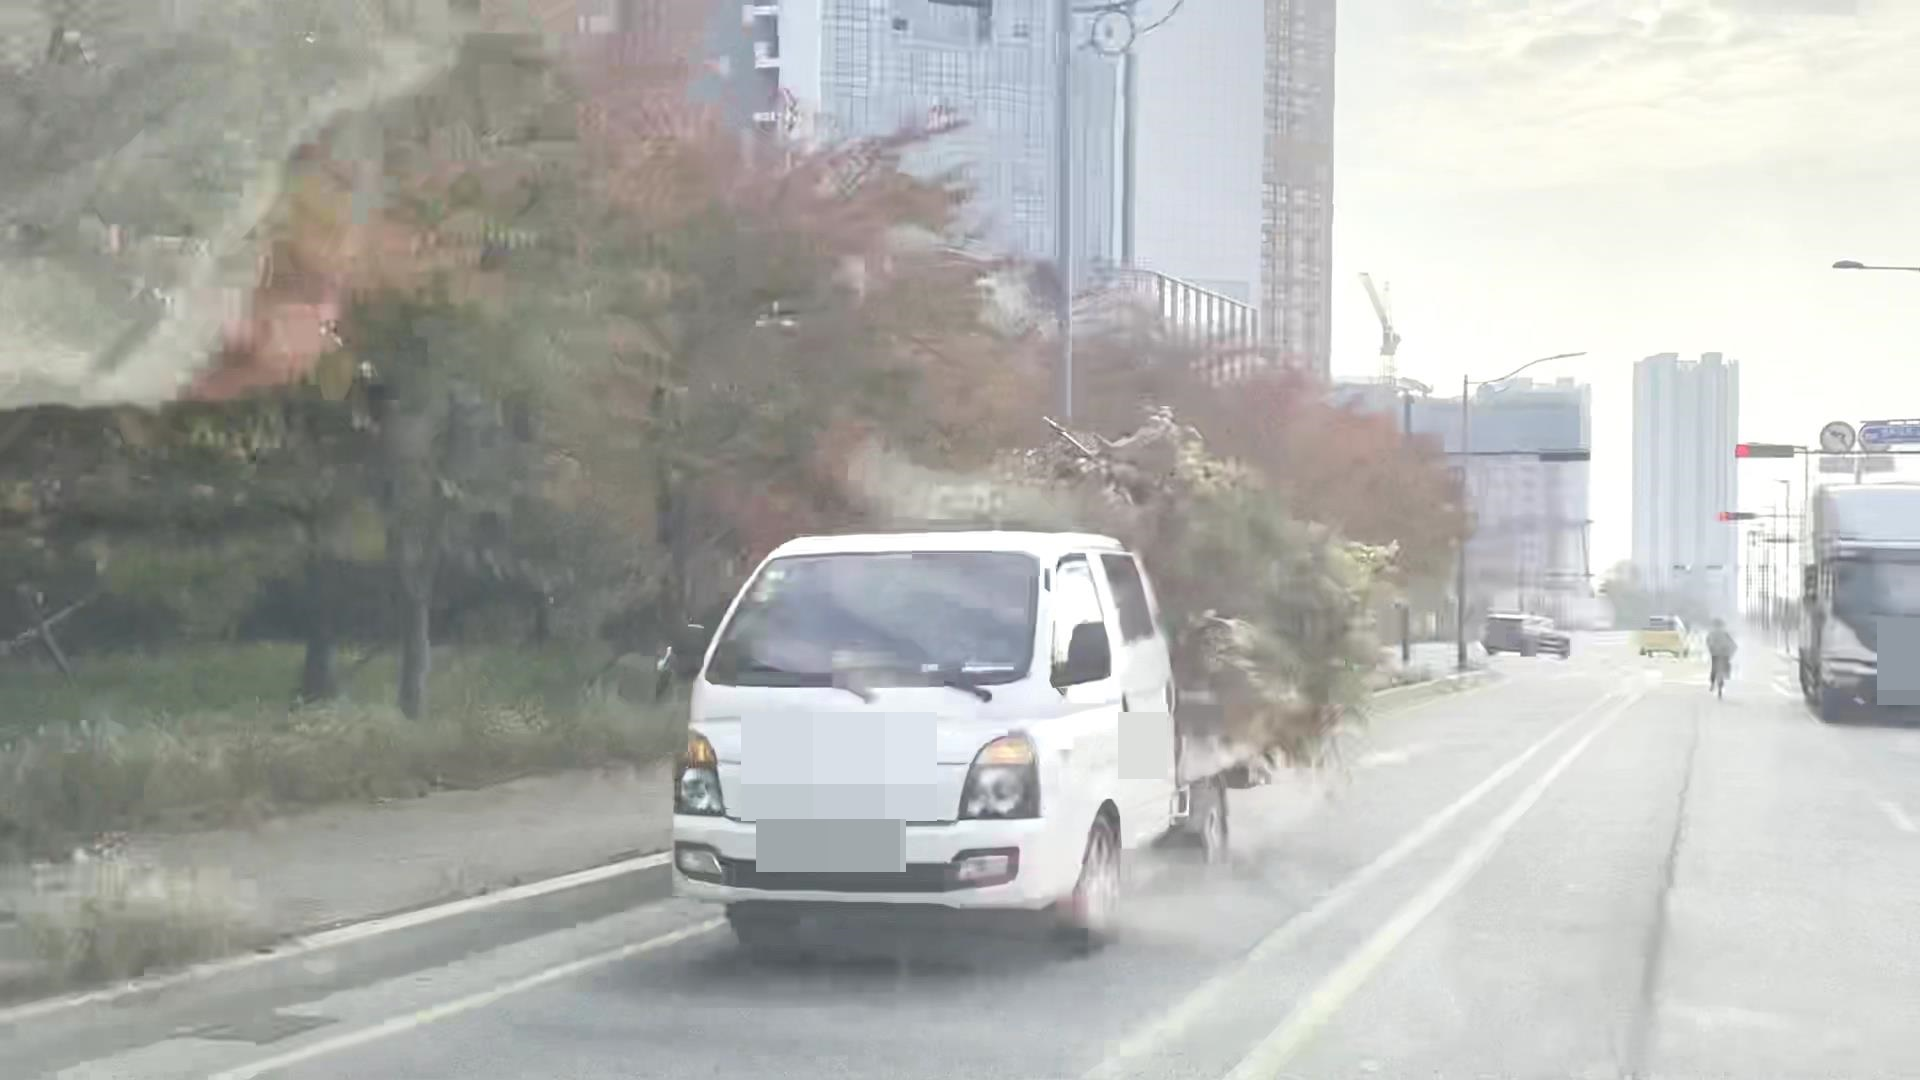불법차량: (657, 405, 1400, 955)
